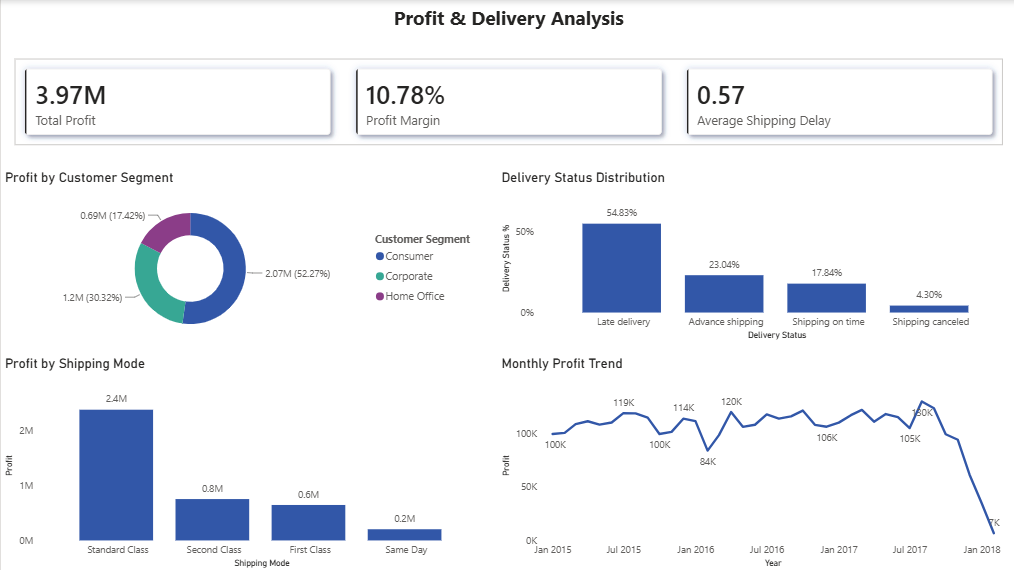

The dashboard page shown, as its layout file describes it:
{"tool":"powerbi","page":{"name":"Profit & Delivery Analysis","canvas":[1280,720],"ordinal":2},"visuals":[{"type":"cardVisual","fields":{"Data":["DataCoSupplyChain_Cleaned.Total Profit","DataCoSupplyChain_Cleaned.Profit Margin","Avg(DataCoSupplyChain_Cleaned.Shipping Delay)"]},"box":[0,56.7,1279.4,143.6],"z":0},{"type":"donutChart","title":"Profit by Customer Segment","fields":{"Category":["DataCoSupplyChain_Cleaned.Customer Segment"],"Y":["Sum(DataCoSupplyChain_Cleaned.Order Profit Per Order)"]},"box":[0,213.5,612.3,219.2],"z":1000},{"type":"clusteredColumnChart","title":"Delivery Status Distribution","fields":{"Category":["DataCoSupplyChain_Cleaned.Delivery Status"],"Y":["DataCoSupplyChain_Cleaned.Delivery Status %"]},"box":[625.5,213.5,653.9,219.2],"z":2000},{"type":"textbox","box":[0,0,1279.4,56.7],"z":3000},{"type":"lineChart","title":"Monthly Profit Trend","fields":{"Y":["Sum(DataCoSupplyChain_Cleaned.Order Profit Per Order)"],"Category":["DataCoSupplyChain_Cleaned.shipping date (DateOrders).Variation.Date Hierarchy.Year","DataCoSupplyChain_Cleaned.shipping date (DateOrders).Variation.Date Hierarchy.Month"]},"box":[626,448,654,272],"z":4000},{"type":"clusteredColumnChart","title":"Profit by Shipping Mode","fields":{"Category":["DataCoSupplyChain_Cleaned.Shipping Mode"],"Y":["Sum(DataCoSupplyChain_Cleaned.Order Profit Per Order)"]},"box":[0,448,612,272],"z":5000}]}

Visuals, with their boxes in screenshot pixels (x1, y1, x2, y2), scaled from the page's 1280x720 canvas onto the 1014x570 screenshot:
cardVisual - DataCoSupplyChain_Cleaned.Total Profit x DataCoSupplyChain_Cleaned.Profit Margin: 0,45,1013,159
"Profit by Customer Segment" donutChart: 0,169,485,343
"Delivery Status Distribution" clusteredColumnChart: 496,169,1013,343
textbox: 0,0,1013,45
"Monthly Profit Trend" lineChart: 496,355,1013,569
"Profit by Shipping Mode" clusteredColumnChart: 0,355,485,569
